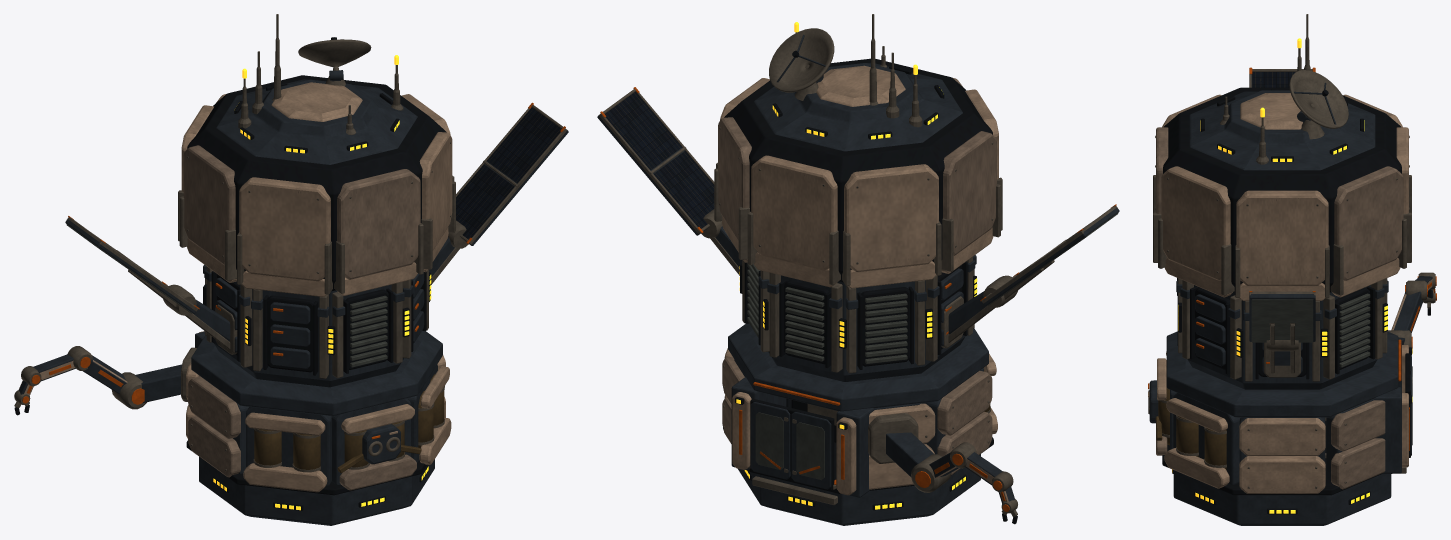
The model's file is replication-r4.glb.
3 views of the same model, side by side, from view 1: azimuth 30°, elevation 25°; view 2: azimuth 150°, elevation 25°; view 3: azimuth 270°, elevation 25° (orthographic). The views are drawn at different scales.
Visible parts, largest first — view 1: Station ceramic and hardware trim 0, Fused silica over photovoltaic cells 0, Amber indicators; view 2: Station ceramic and hardware trim 0, Fused silica over photovoltaic cells 0, Amber indicators; view 3: Station ceramic and hardware trim 0, Amber indicators, Fused silica over photovoltaic cells 0.
Part boxes in pixels (box(x1,y1,x2,y2)): Station ceramic and hardware trim 0: box(14, 14, 568, 525); Fused silica over photovoltaic cells 0: box(456, 107, 561, 239); Amber indicators: box(213, 120, 431, 510); Station ceramic and hardware trim 0: box(597, 14, 1119, 525); Fused silica over photovoltaic cells 0: box(605, 91, 714, 228); Amber indicators: box(736, 87, 977, 509); Station ceramic and hardware trim 0: box(1148, 14, 1436, 525); Amber indicators: box(1172, 120, 1412, 513); Fused silica over photovoltaic cells 0: box(1252, 72, 1295, 87).
Bounding box in the file's own units: 75.4 × 71 × 40.65.
4 materials, 2 textured.
